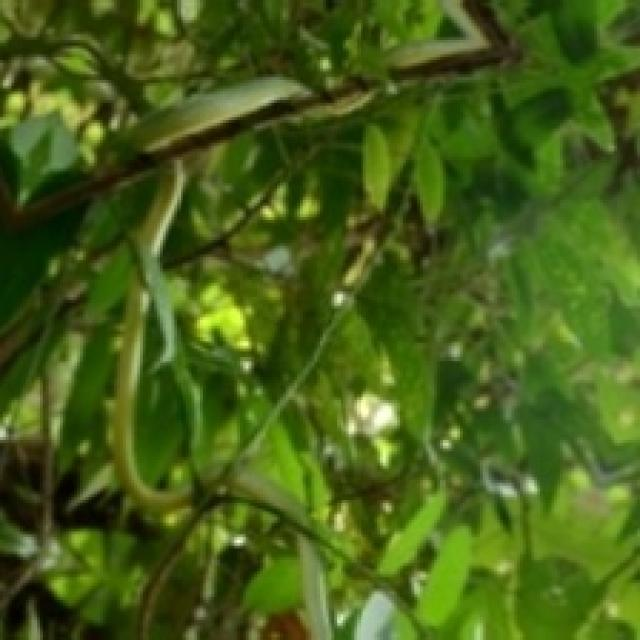red-tailed green ratsnake: (112, 274, 190, 512), (165, 78, 311, 139), (392, 0, 491, 71), (138, 160, 186, 252), (234, 474, 310, 529), (298, 532, 332, 639), (321, 92, 370, 115)
